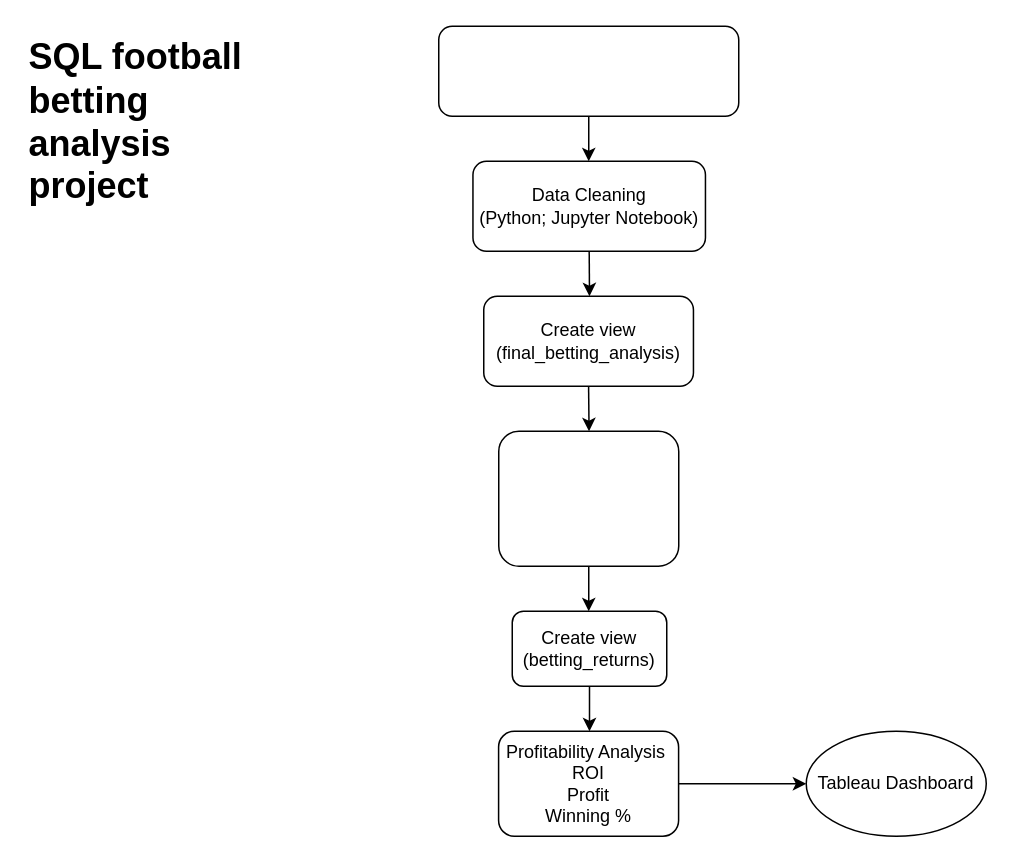
This 1013x863 diagram has some shape labels left out. Each missing label, with the centre of its shape:
Calculate: Bookmaker Margin Market Probability Edge Expected Value: the point at 588,498
CSV Files Import (raw_bet_1; raw_bet_x; raw_bet_2): the point at 588,70
